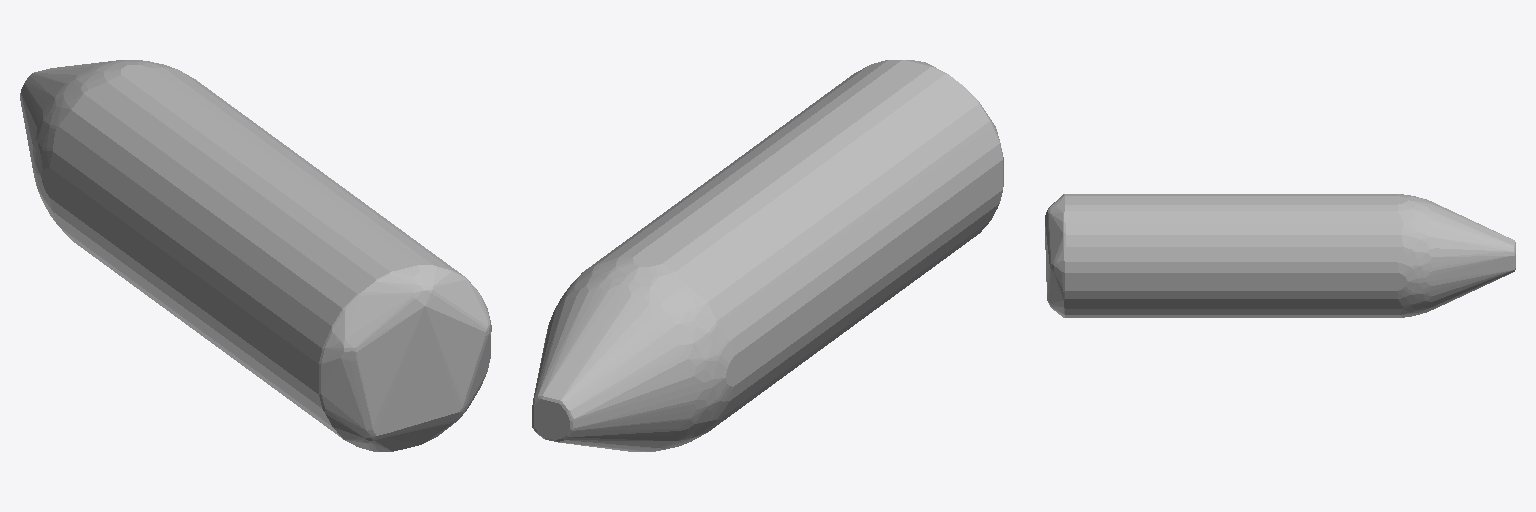
The robot description file, URDF, robot "root":
<?xml version="1.0"?>
<robot name="root">
  <link name="base_link">
    <visual>
      <origin xyz="0 0 0" rpy="0 0 0" />
      <geometry>
        <mesh filename="../meshes/unidex_core_bottle-1d4093ad2dfad9df24be2e4f911ee4af_008.obj" scale="1.0000E+00 1.0000E+00 1.0000E+00" />
      </geometry>
      <material name="">
        <color rgba="7.50E-01 7.50E-01 7.50E-01 1" />
      </material>
    </visual>
    <collision>
      <origin xyz="0 0 0" rpy="0 0 0" />
      <geometry>
        <mesh filename="../meshes/unidex_core_bottle-1d4093ad2dfad9df24be2e4f911ee4af_008.obj" scale="1.0000E+00 1.0000E+00 1.0000E+00" />
      </geometry>
    </collision>
  </link>
</robot>

--- What the picture shows (computed from the rendered views, not written in the file) ---
The picture shows the robot from 3 angles, left to right: view 1: azimuth 30°, elevation 25°; view 2: azimuth 150°, elevation 25°; view 3: azimuth 270°, elevation 25°; orthographic projection.
Robot: root — 1 links, 0 joints (none); root link base_link; default pose: every joint at zero.
Links seen in each view (by area): view 1: base_link; view 2: base_link; view 3: base_link.
Link boxes in pixels (x1,y1,x2,y2): base_link: (20, 60, 491, 451); base_link: (532, 60, 1003, 451); base_link: (1045, 194, 1515, 317).
Bounding box of the posed robot: 0.0402 × 0.1542 × 0.0402 m (x, y, z).
Meshes: 1 distinct files referenced, 1 mesh visuals loaded (1 OBJ).
